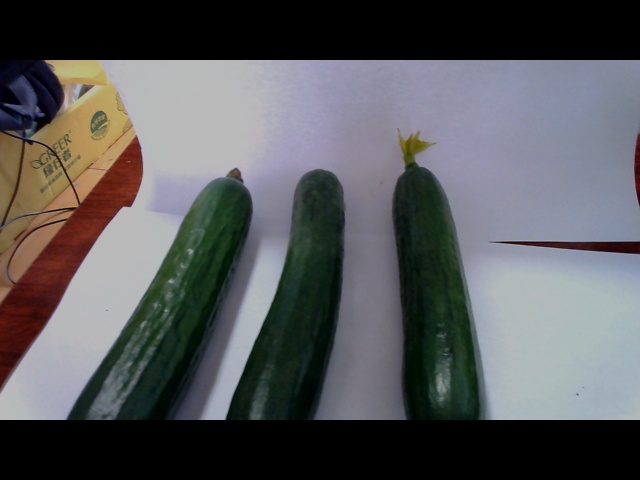cucumber: (82, 148, 355, 416), (378, 130, 488, 414)
